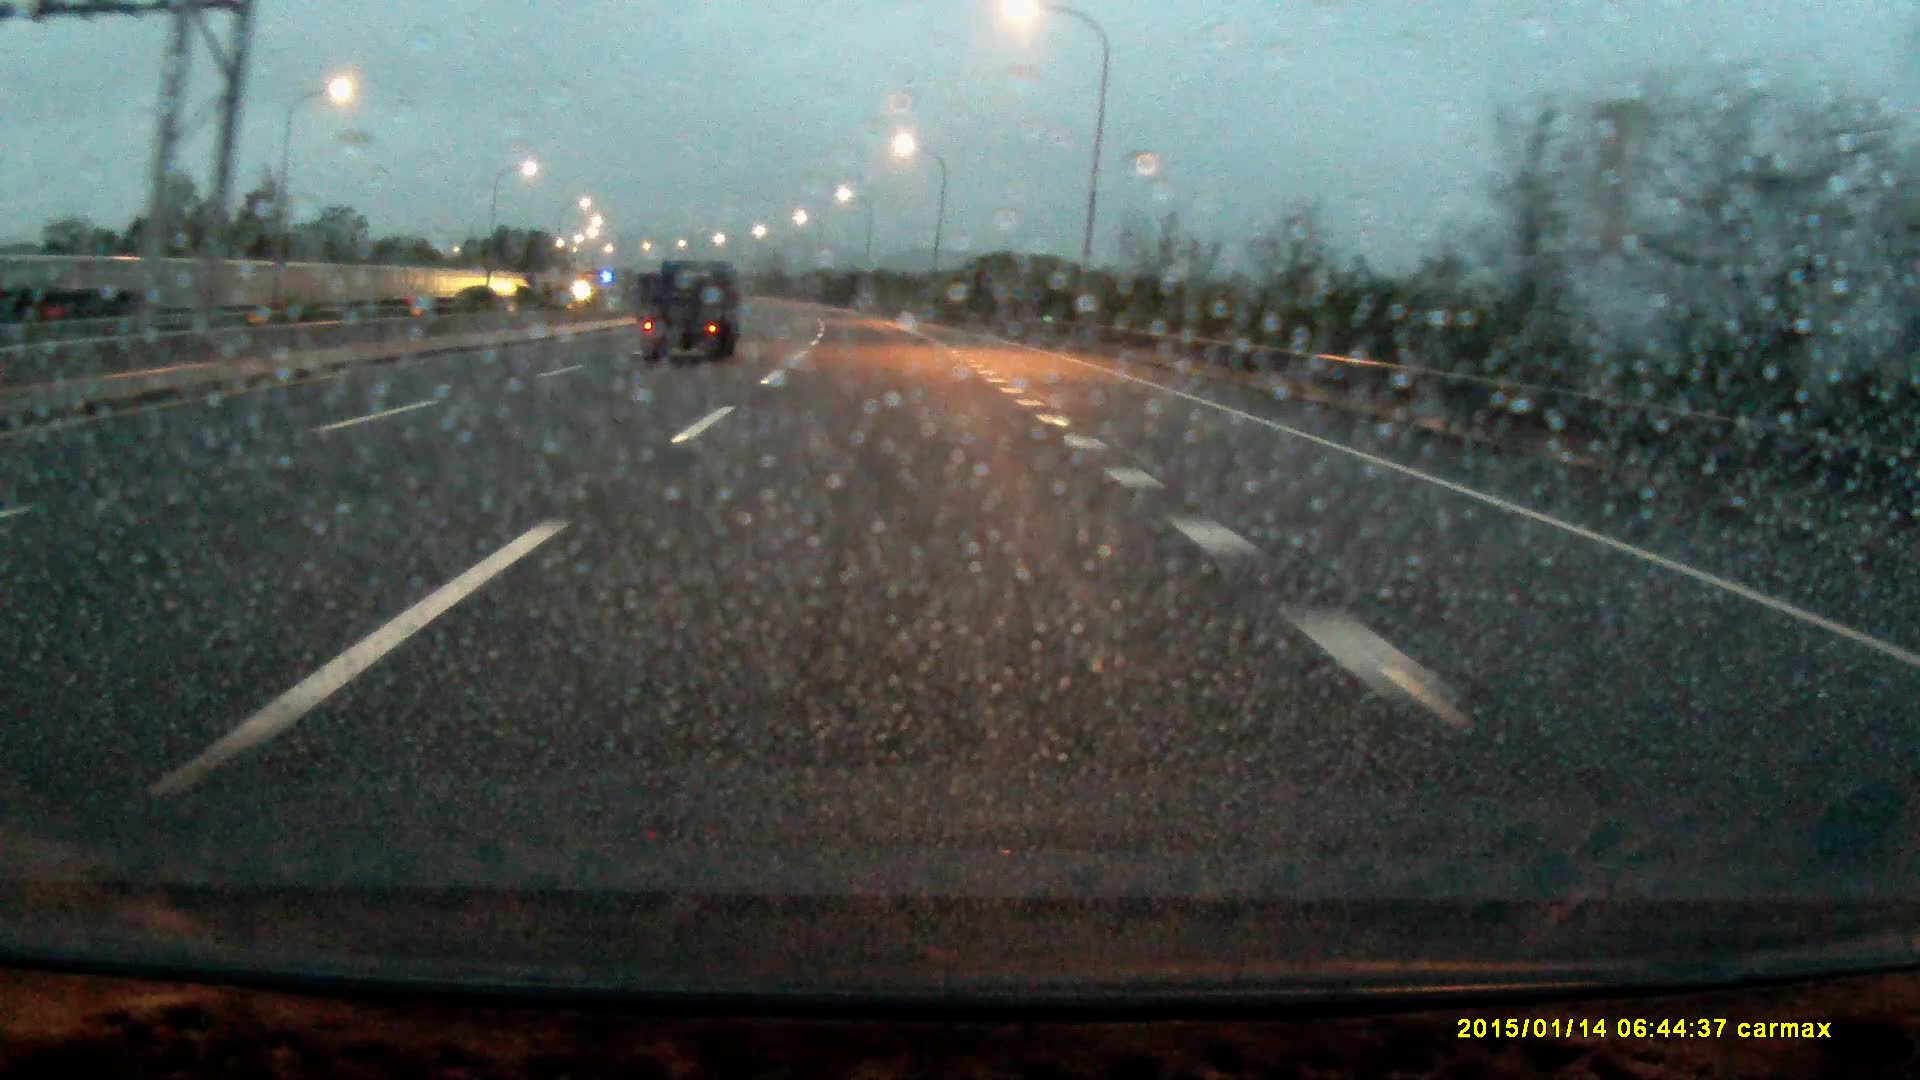vehicle: (638, 256, 742, 368), (3, 272, 165, 324)
